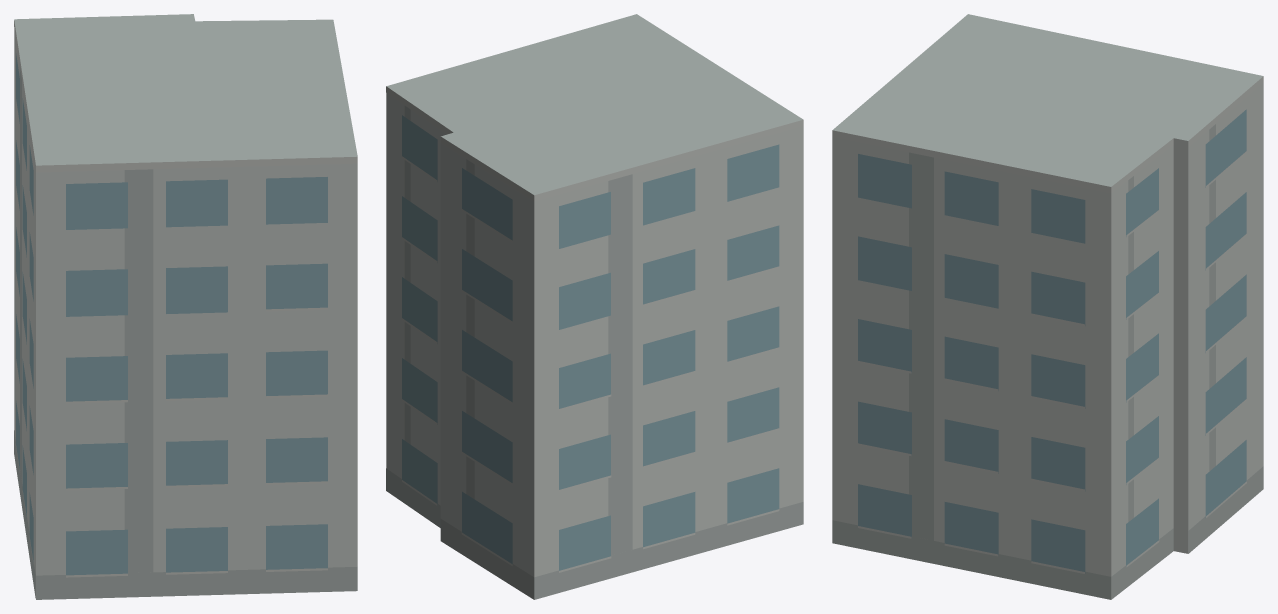
The model's file is survey-upis-32726313.glb.
3 views of the same model, side by side, from view 1: azimuth 30°, elevation 25°; view 2: azimuth 150°, elevation 25°; view 3: azimuth 270°, elevation 25° (orthographic). The views are drawn at different scales.
Parts seen in each view (by area): view 1: survey-upis-32726313.tmp; view 2: survey-upis-32726313.tmp; view 3: survey-upis-32726313.tmp.
Part boxes in pixels (bbox=[...]): survey-upis-32726313.tmp: bbox=[14, 14, 357, 599]; survey-upis-32726313.tmp: bbox=[386, 14, 803, 599]; survey-upis-32726313.tmp: bbox=[832, 14, 1263, 599].
Bounding box in the file's own units: 13.71 × 15.25 × 14.45.
